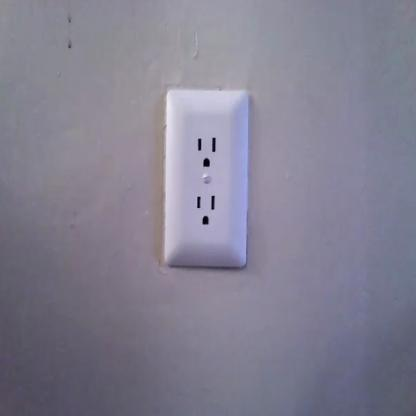OUTLET: (166, 89, 247, 266)
